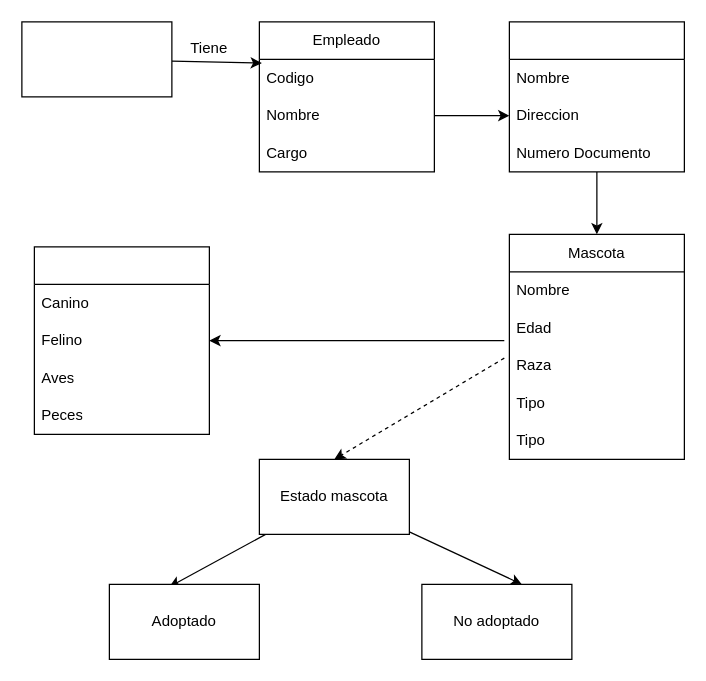
Some shapes in this 706 by 681 pixel diagram are drawn without their labels. Each missing label, with the box of its shape:
Categoria_animal: (33, 246, 209, 434)
Cliente: (508, 21, 684, 172)
Tienda Mascotas: (21, 21, 172, 97)
